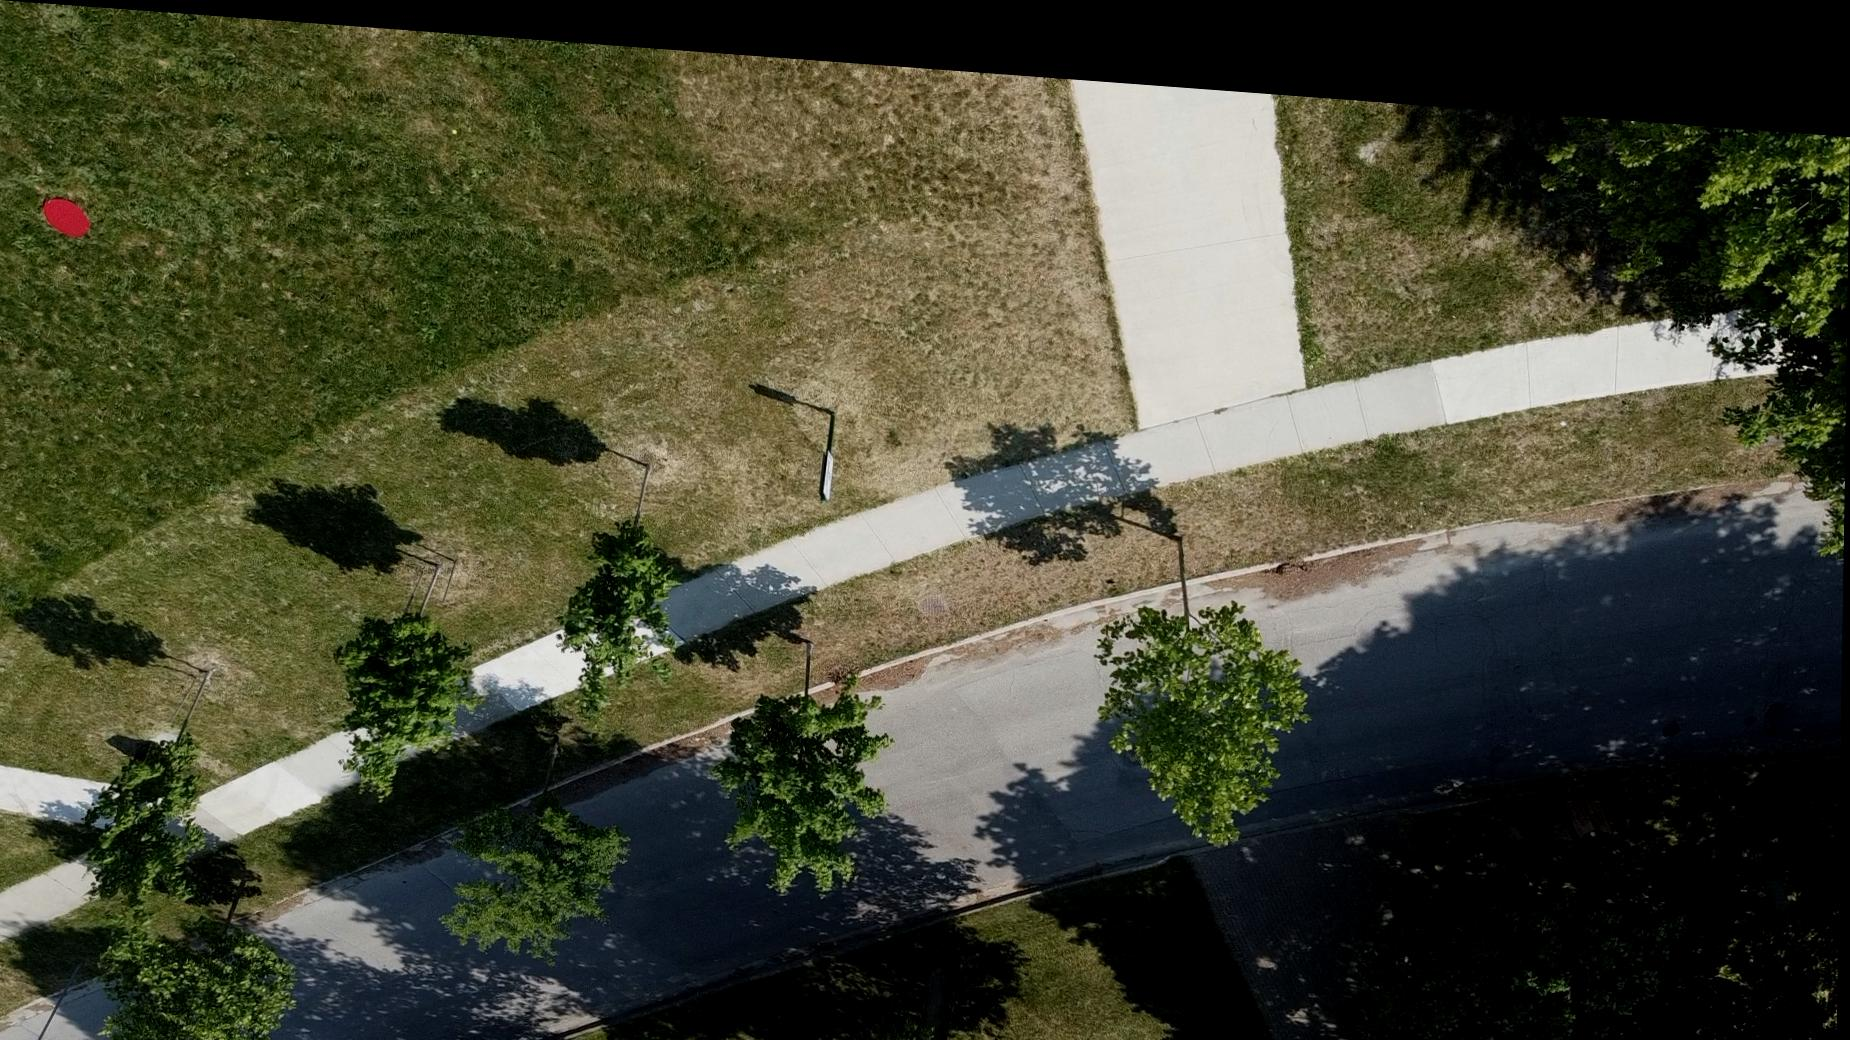Red: (42, 194, 94, 237)
